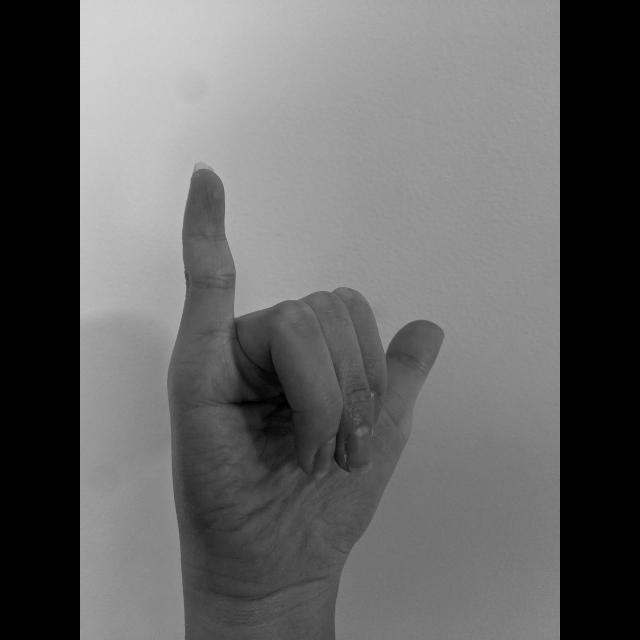Y: (158, 158, 450, 602)
